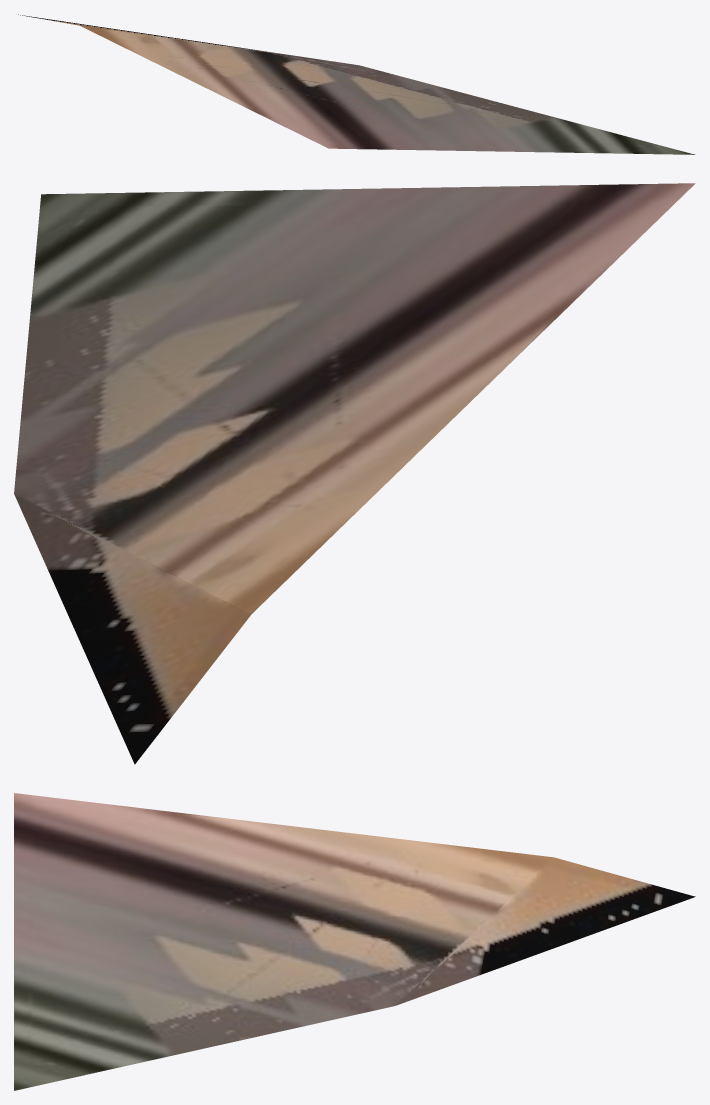
The picture shows the model from 3 angles, top to bottom: view 1: azimuth 30°, elevation 25°; view 2: azimuth 150°, elevation 25°; view 3: azimuth 270°, elevation 25°; orthographic projection. The views are drawn at different scales.
Bounding box in the file's own units: 0.8325 × 0.2075 × 1.24.
Materials: 1 (1 with a texture image).
